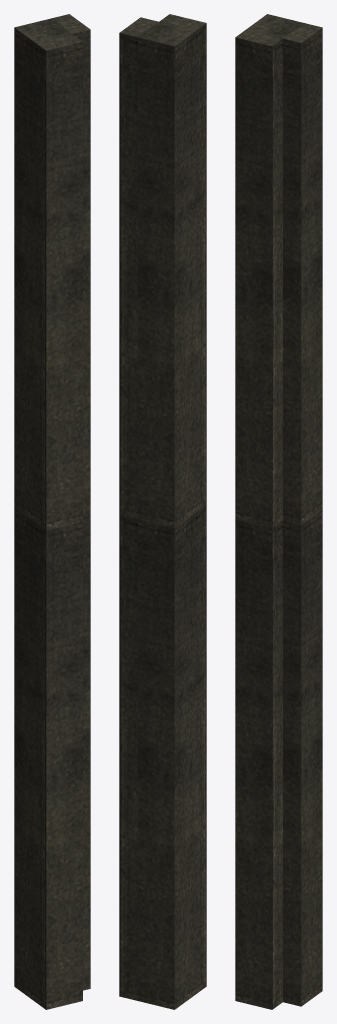
Rendered from metal_fence_hr_1_pillar_1_corner_tall.dae.
The picture shows the model from 3 angles, left to right: view 1: azimuth 30°, elevation 25°; view 2: azimuth 150°, elevation 25°; view 3: azimuth 330°, elevation 25°; orthographic projection.
Visible parts, largest first — view 1: metal_fence_hr_1_pillar_1_corner_tall; view 2: metal_fence_hr_1_pillar_1_corner_tall; view 3: metal_fence_hr_1_pillar_1_corner_tall.
Part boxes in pixels (x1,y1,x2,y2): metal_fence_hr_1_pillar_1_corner_tall: (14,14,90,1009); metal_fence_hr_1_pillar_1_corner_tall: (119,14,206,1009); metal_fence_hr_1_pillar_1_corner_tall: (235,14,322,1009).
Size of the model in its own units: 0.3 by 0.3 by 5.
Materials: 1 (1 with a texture image).
